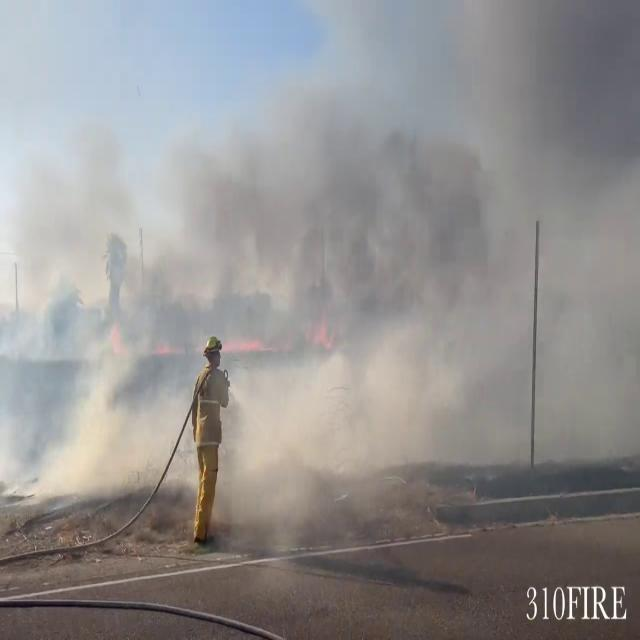Smoke: (0, 29, 637, 529)
